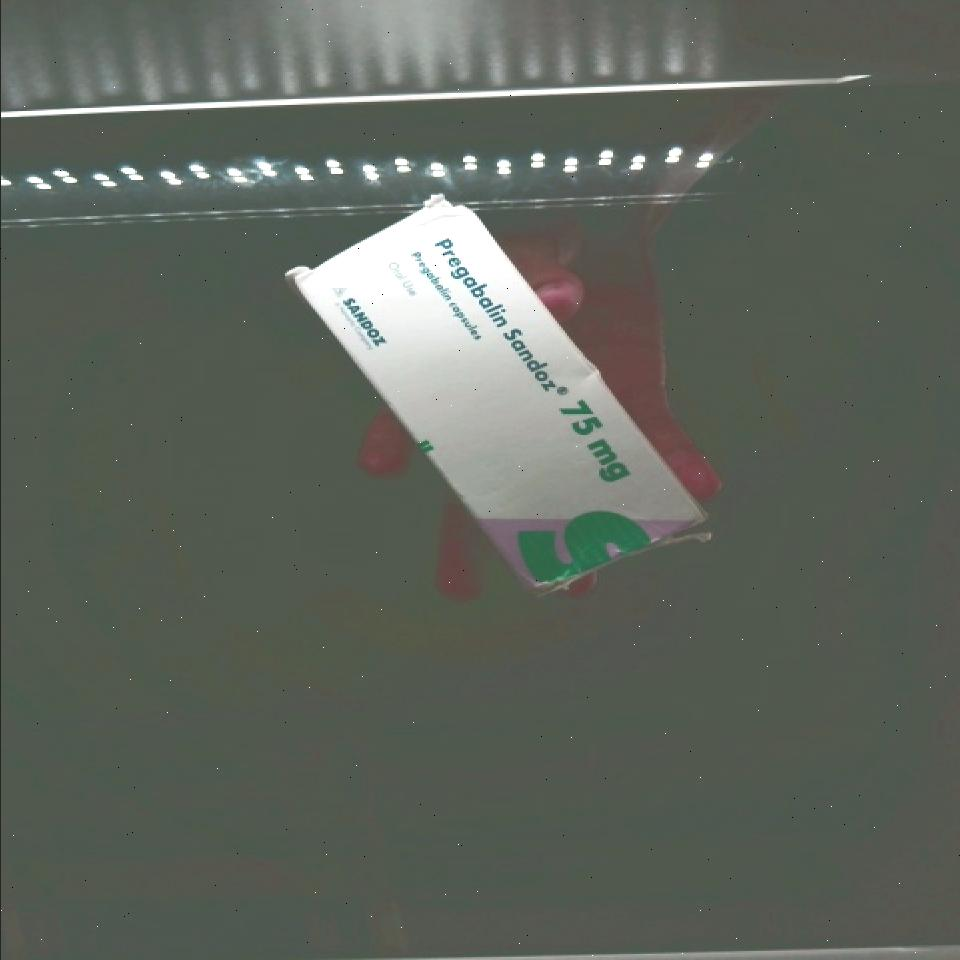medicine_box: (289, 165, 704, 629)
medicine_label_obb: (397, 204, 597, 434)
